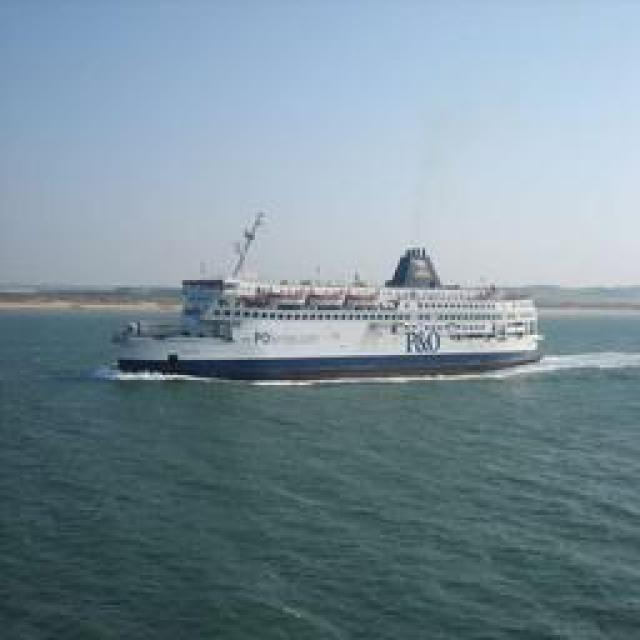Ship: (105, 224, 543, 384)
